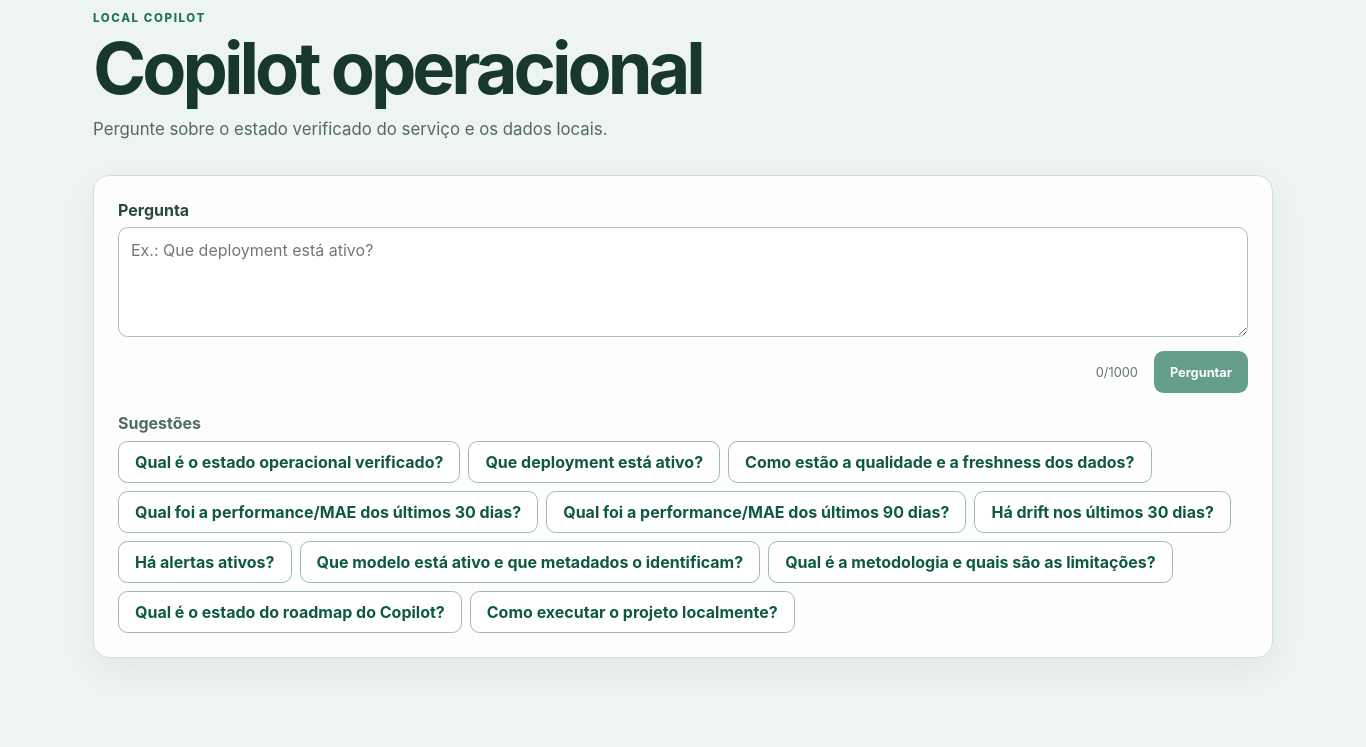
CopilotPage › submits a suggestion and renders evidence and limitations
Click the button "Que deployment está ativo?" at (594, 462), box [468,441,720,483]
(page scrolled)
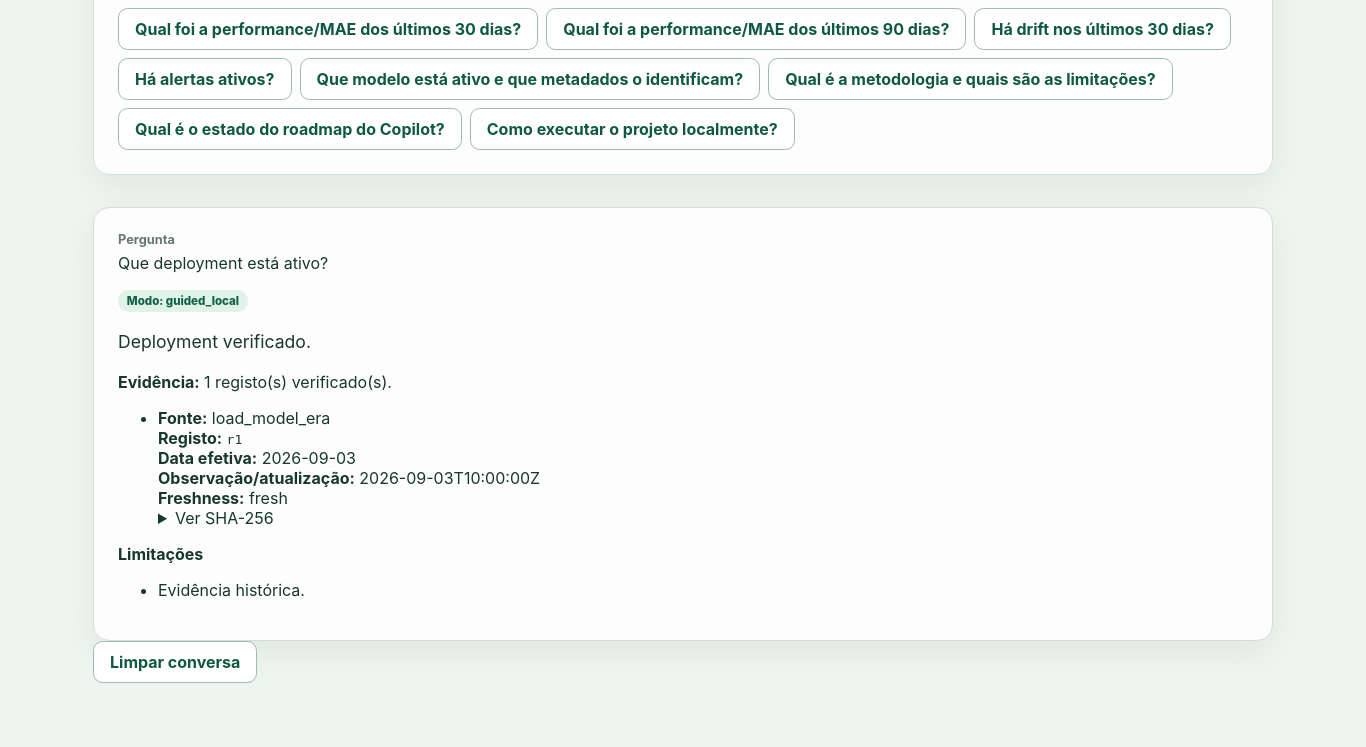
Now the text "Deployment verificado." is shown, box [118,331,311,352]
Now the text "1 registo(s) verificado(s)." is shown, box [204,372,392,392]
Now the text "Fonte:" is shown, box [158,408,207,428]
